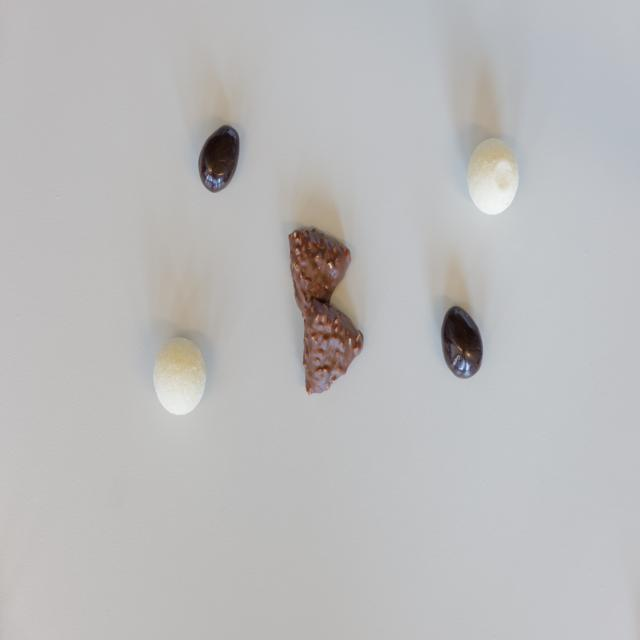Comtesse: (154, 339, 206, 417), (467, 138, 519, 215)
Jelly_Black: (441, 306, 483, 378), (198, 125, 239, 193)
Triangolo: (303, 297, 364, 396), (288, 224, 351, 316)
